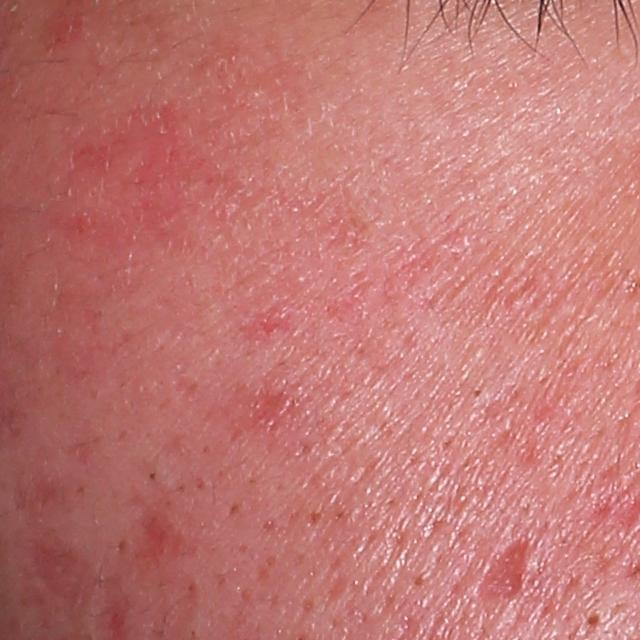atrophic_scar: (315, 191, 387, 263), (474, 533, 535, 603)
comedo: (585, 609, 604, 633), (144, 464, 161, 487)
